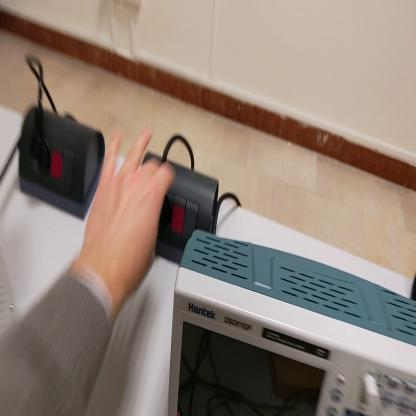hand: (81, 121, 175, 296)
oscilloscope: (168, 232, 416, 416)
socket: (18, 104, 106, 223), (149, 148, 222, 270)
